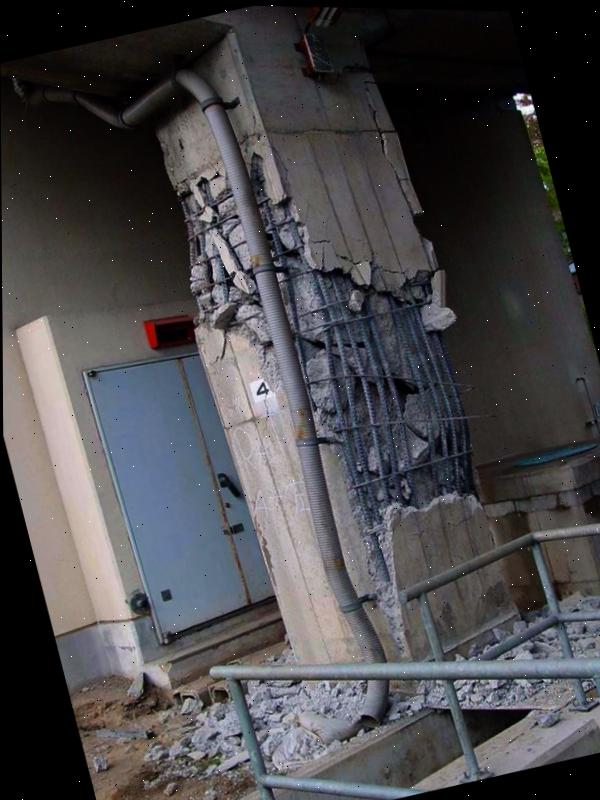spalling: (174, 152, 481, 653)
